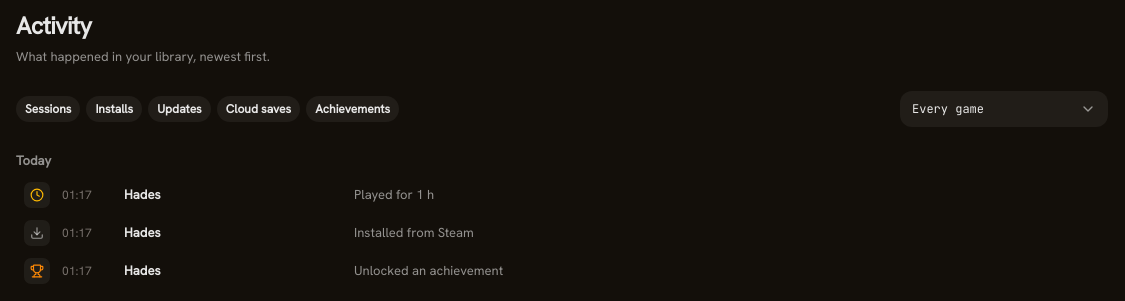
Scenario: a22 activity › renders day groups with kind chips and a game filter
This screenshot has width=1125, height=301.
Expected: the button "Installs" is shown, [86, 96, 142, 122]
Expected: the button "Hades" next to "Played for 1 h" is shown, [124, 185, 344, 205]
Click the button "Sessions": click(48, 108) [16, 96, 80, 122]
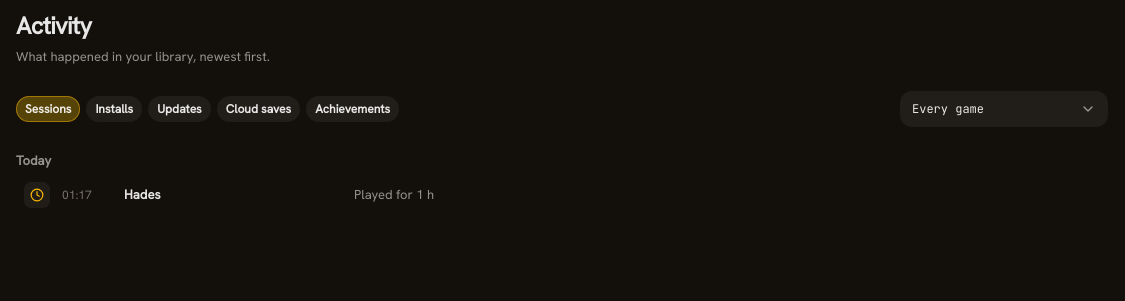
Expected: the text "Played for 1 h" is shown, [354, 186, 434, 203]
Expected: the text "Installed from Steam" is gone
